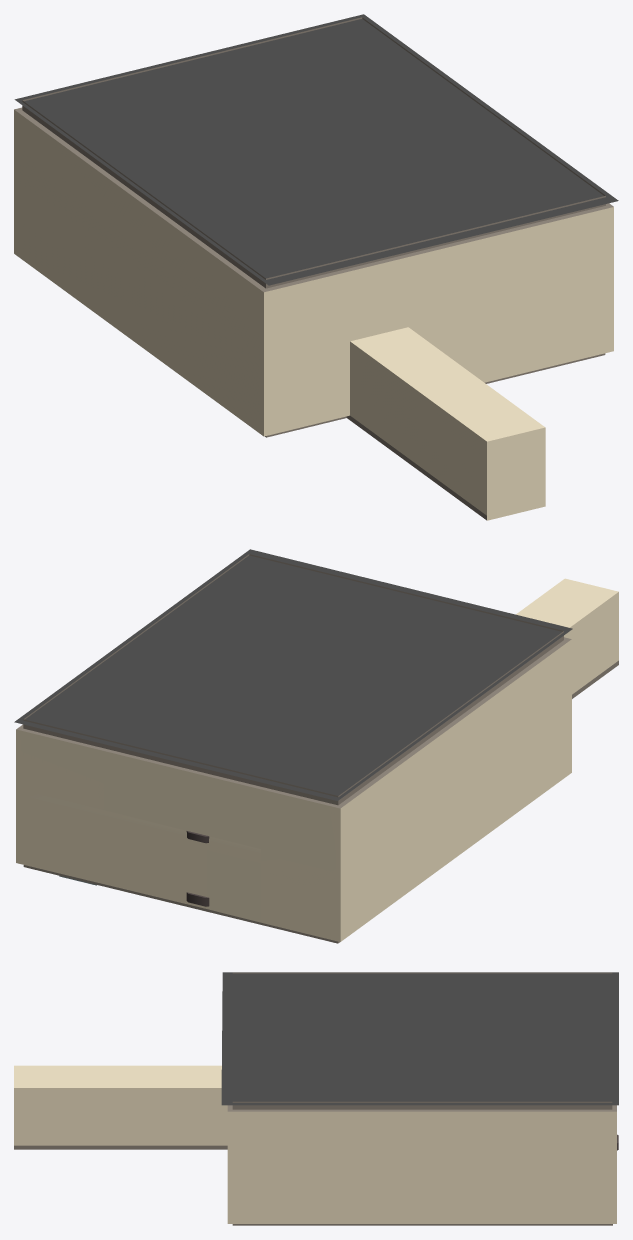
File: SalaMaquinas.fbx
3 renders of one model, top to bottom at view 1: azimuth 30°, elevation 25°; view 2: azimuth 150°, elevation 25°; view 3: azimuth 270°, elevation 25°, orthographic. The views are drawn at different scales.
Parts seen in each view (by area): view 1: __Estancia, Techo; view 2: __Estancia, Techo; view 3: __Estancia, Techo.
Part boxes in pixels (box(x1,y1,x2,y2)): __Estancia: box(14, 17, 613, 520); Techo: box(14, 14, 618, 285); __Estancia: box(16, 554, 618, 943); Techo: box(14, 549, 572, 800); __Estancia: box(14, 972, 616, 1225); Techo: box(221, 972, 618, 1105).
Bounding box in the file's own units: 1274 × 557 × 2440.
